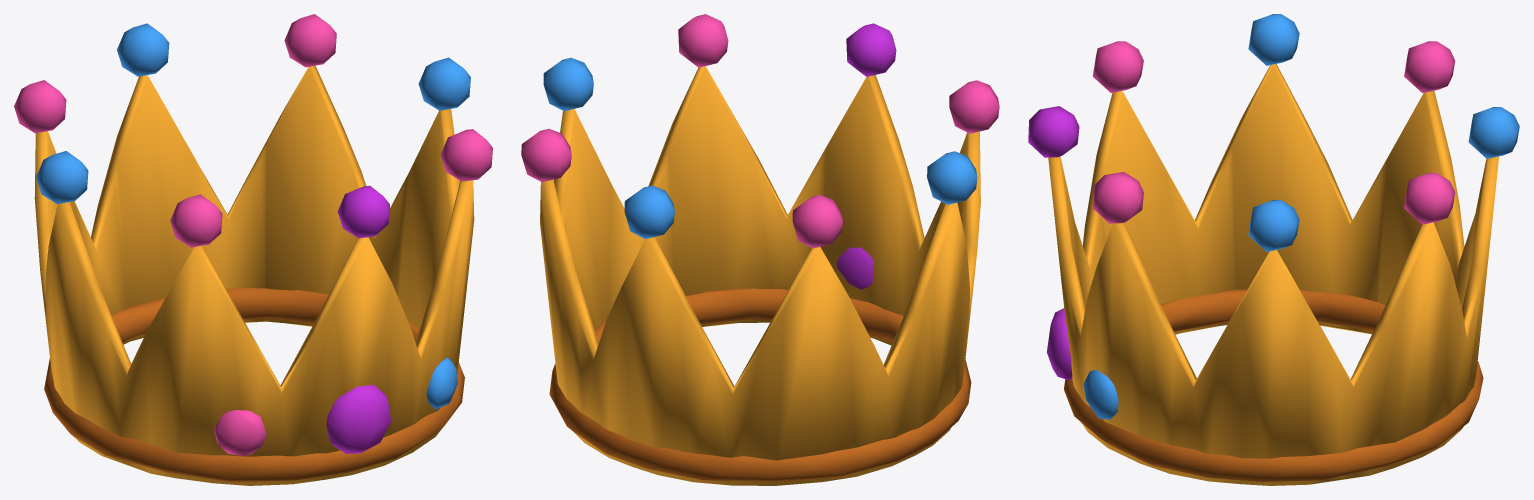
File: crown.glb
The picture shows the model from 3 angles, left to right: view 1: azimuth 30°, elevation 25°; view 2: azimuth 150°, elevation 25°; view 3: azimuth 270°, elevation 25°; orthographic projection.
Visible parts, largest first — view 1: crown_Band, crown_Base Rim, crown_Center Gem, crown_Tip Jewel 7, crown_Tip Jewel 6, crown_Tip Jewel 2, crown_Tip Jewel 4, crown_Tip Jewel 3, crown_Tip Jewel 5, crown_Tip Jewel 0, crown_Tip Jewel 1, crown_Left Gem (+1 smaller); view 2: crown_Band, crown_Base Rim, crown_Tip Jewel 2, crown_Tip Jewel 4, crown_Tip Jewel 3, crown_Tip Jewel 7, crown_Tip Jewel 6, crown_Tip Jewel 5, crown_Tip Jewel 0, crown_Tip Jewel 1, crown_Center Gem; view 3: crown_Band, crown_Base Rim, crown_Tip Jewel 0, crown_Tip Jewel 1, crown_Tip Jewel 2, crown_Tip Jewel 6, crown_Tip Jewel 4, crown_Tip Jewel 7, crown_Tip Jewel 3, crown_Tip Jewel 5, crown_Right Gem, crown_Center Gem.
Part boxes in pixels (x1=…): crown_Band: x1=34, y1=65, x2=474, y2=485; crown_Base Rim: x1=44, y1=288, x2=464, y2=481; crown_Center Gem: x1=326, y1=385, x2=391, y2=453; crown_Tip Jewel 7: x1=170, y1=194, x2=222, y2=247; crown_Tip Jewel 6: x1=36, y1=151, x2=88, y2=203; crown_Tip Jewel 2: x1=418, y1=57, x2=470, y2=110; crown_Tip Jewel 4: x1=117, y1=23, x2=169, y2=76; crown_Tip Jewel 3: x1=284, y1=14, x2=336, y2=67; crown_Tip Jewel 5: x1=14, y1=80, x2=66, y2=133; crown_Tip Jewel 0: x1=337, y1=185, x2=389, y2=238; crown_Tip Jewel 1: x1=440, y1=129, x2=492, y2=181; crown_Left Gem: x1=213, y1=410, x2=266, y2=456; crown_Band: x1=540, y1=66, x2=980, y2=485; crown_Base Rim: x1=549, y1=288, x2=971, y2=481; crown_Tip Jewel 2: x1=543, y1=57, x2=593, y2=111; crown_Tip Jewel 4: x1=624, y1=185, x2=674, y2=238; crown_Tip Jewel 3: x1=521, y1=128, x2=571, y2=182; crown_Tip Jewel 7: x1=949, y1=80, x2=999, y2=133; crown_Tip Jewel 6: x1=927, y1=151, x2=977, y2=204; crown_Tip Jewel 5: x1=792, y1=195, x2=842, y2=248; crown_Tip Jewel 0: x1=846, y1=23, x2=896, y2=76; crown_Tip Jewel 1: x1=678, y1=14, x2=728, y2=67; crown_Center Gem: x1=836, y1=247, x2=873, y2=289; crown_Band: x1=1048, y1=64, x2=1498, y2=485; crown_Base Rim: x1=1064, y1=289, x2=1483, y2=481; crown_Tip Jewel 0: x1=1028, y1=106, x2=1079, y2=157; crown_Tip Jewel 1: x1=1092, y1=172, x2=1143, y2=223; crown_Tip Jewel 2: x1=1248, y1=200, x2=1299, y2=251; crown_Tip Jewel 6: x1=1248, y1=14, x2=1299, y2=65; crown_Tip Jewel 4: x1=1468, y1=107, x2=1519, y2=158; crown_Tip Jewel 7: x1=1092, y1=41, x2=1143, y2=92; crown_Tip Jewel 3: x1=1404, y1=173, x2=1455, y2=224; crown_Tip Jewel 5: x1=1404, y1=41, x2=1455, y2=92; crown_Right Gem: x1=1083, y1=370, x2=1118, y2=419; crown_Center Gem: x1=1047, y1=308, x2=1072, y2=380.
Size of the model in its own units: 0.4529 by 0.2983 by 0.4522.
